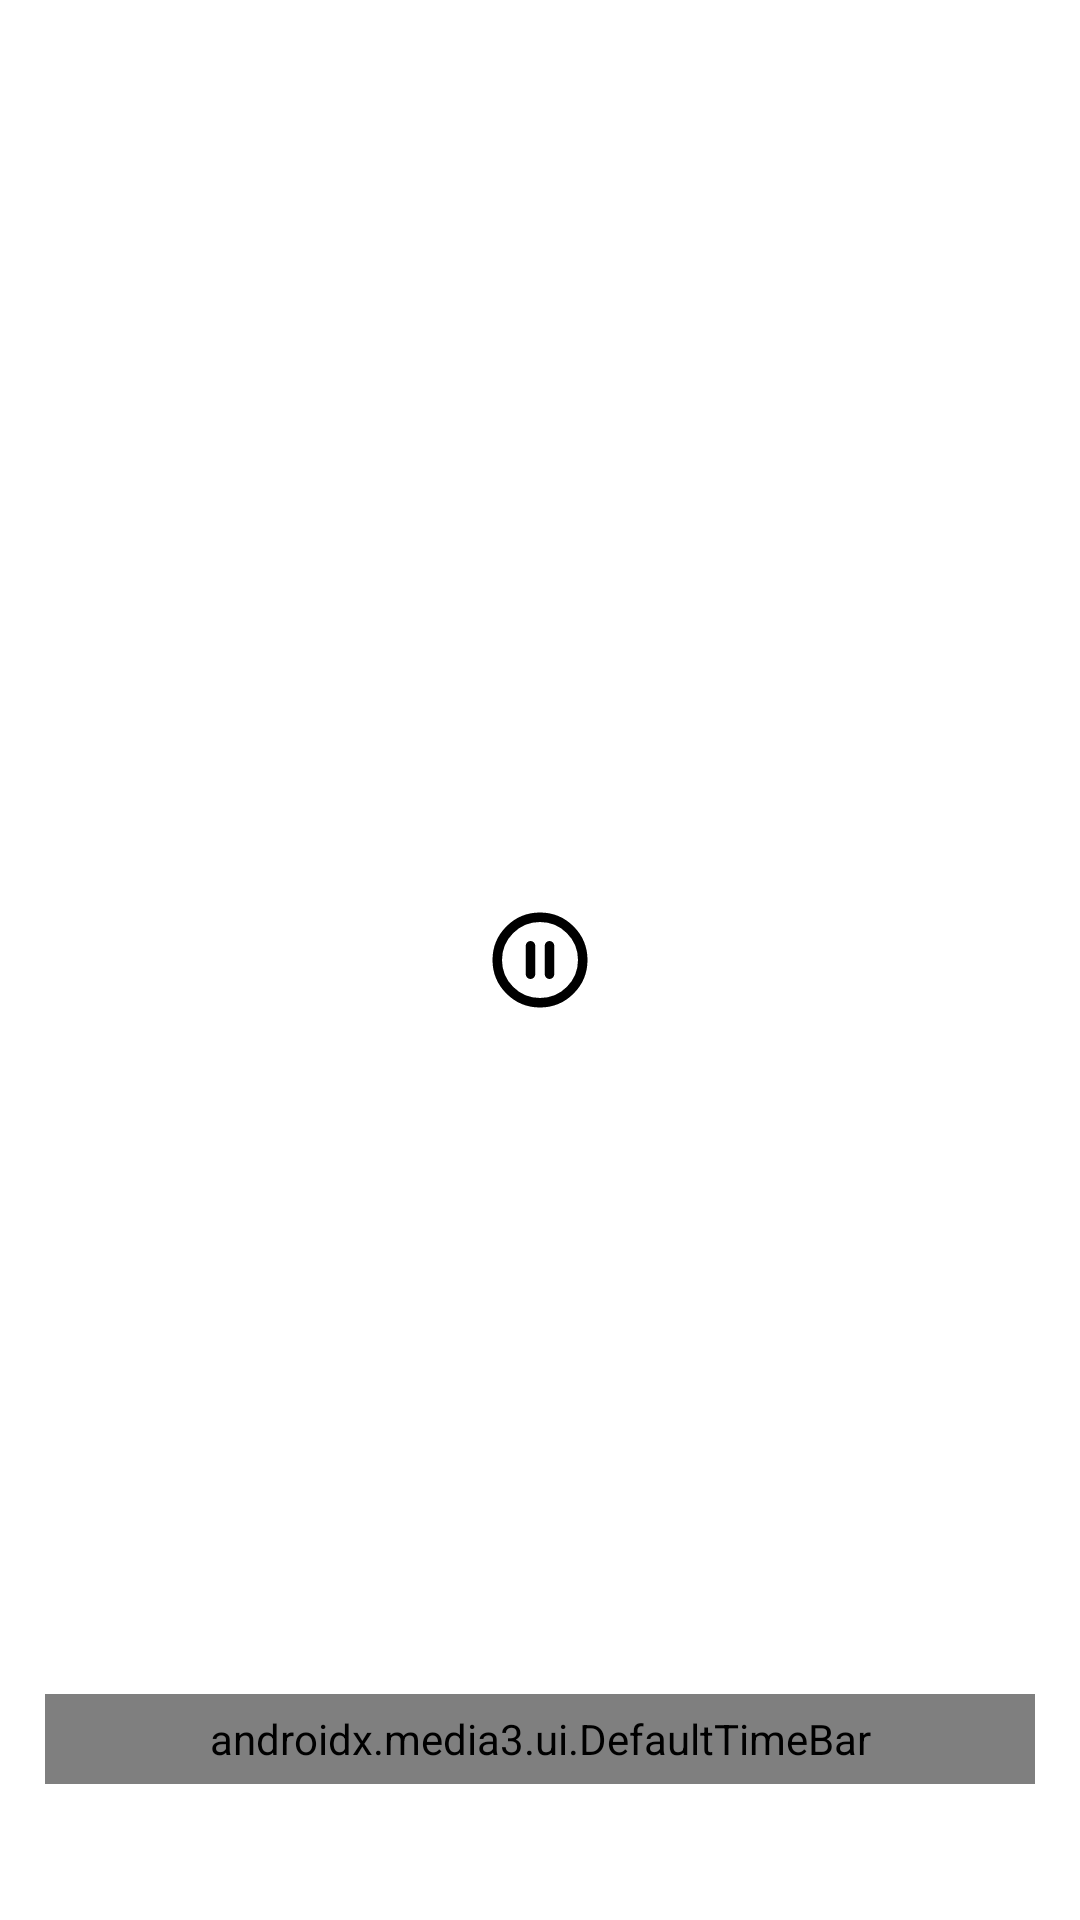

Named icons in this screenshot (1080w x 1920h) and their centers, (x,y):
pause: (540,960)
